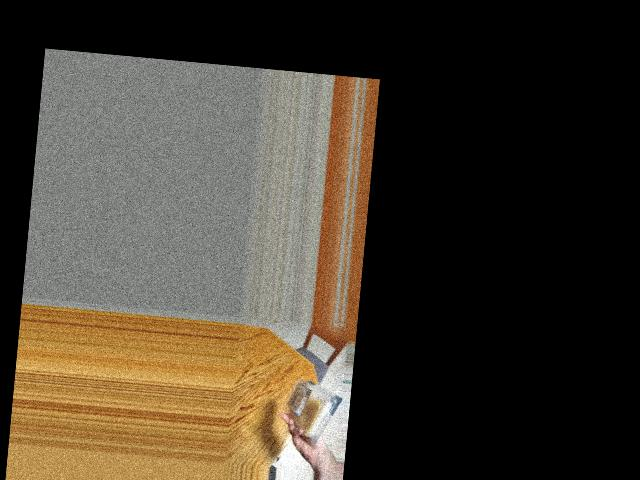cheese: (288, 378, 334, 440)
